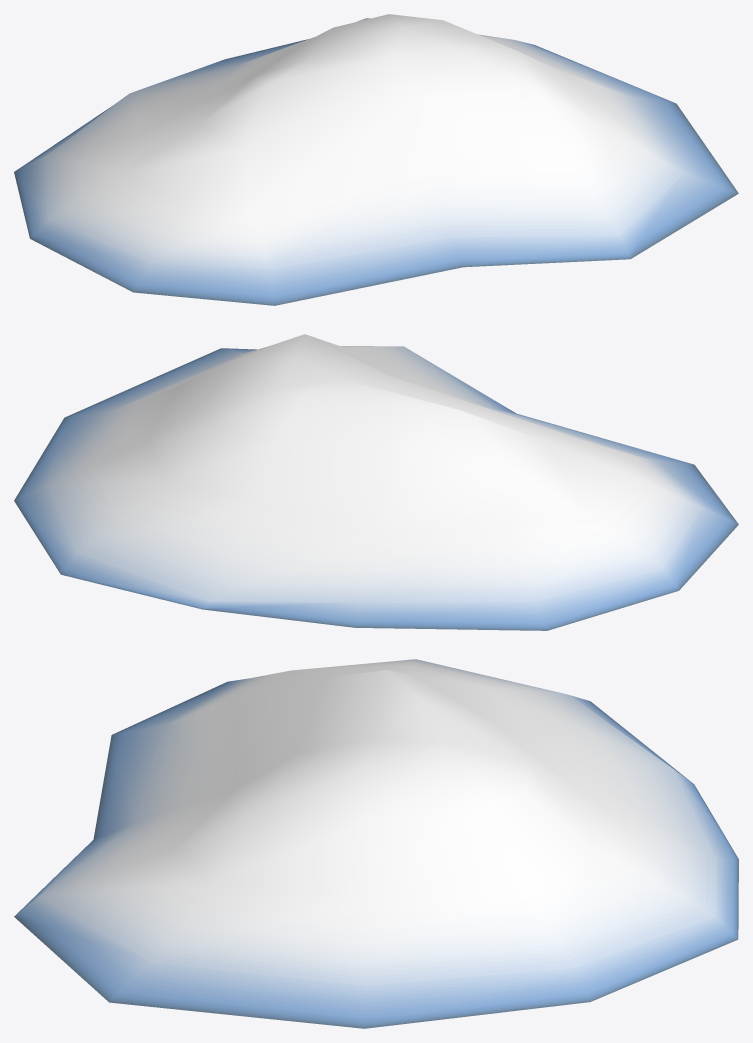
File: deco_winter_snowPatchA.FBX
3 views of the same model, one above another, from view 1: azimuth 30°, elevation 25°; view 2: azimuth 150°, elevation 25°; view 3: azimuth 270°, elevation 25° (orthographic). The views are drawn at different scales.
Parts seen in each view (by area): view 1: deco_winter_snowPatchA; view 2: deco_winter_snowPatchA; view 3: deco_winter_snowPatchA.
Boxes of the visible parts, x1=… form: deco_winter_snowPatchA: x1=14, y1=14, x2=738, y2=305; deco_winter_snowPatchA: x1=14, y1=334, x2=738, y2=630; deco_winter_snowPatchA: x1=14, y1=659, x2=738, y2=1028.
Bounding box in the file's own units: 2.05 × 0.3472 × 1.74.
1 material, 1 textured.
